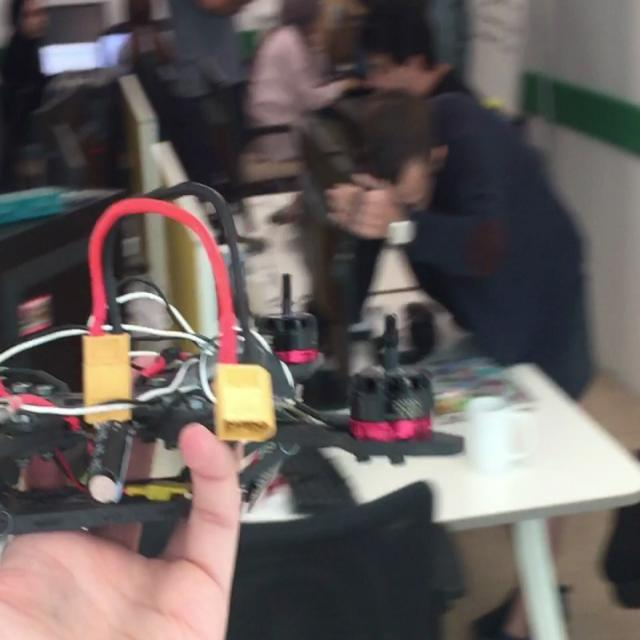drone: (0, 281, 505, 542)
